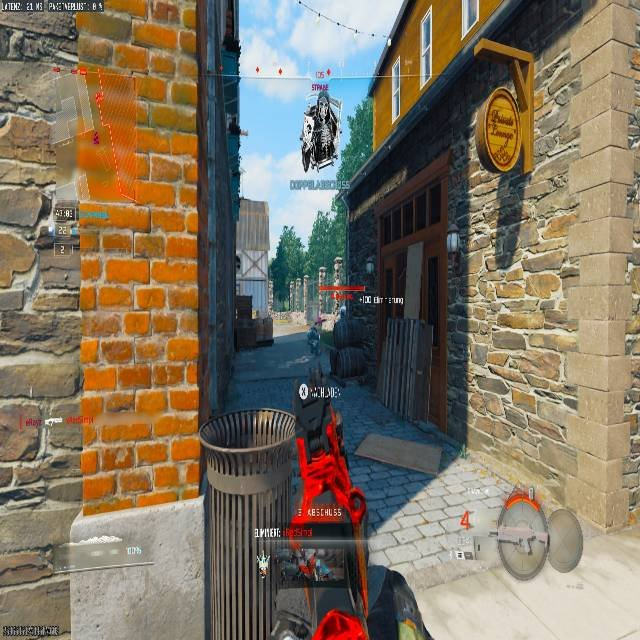player: (306, 324, 320, 354), (335, 301, 344, 319)
